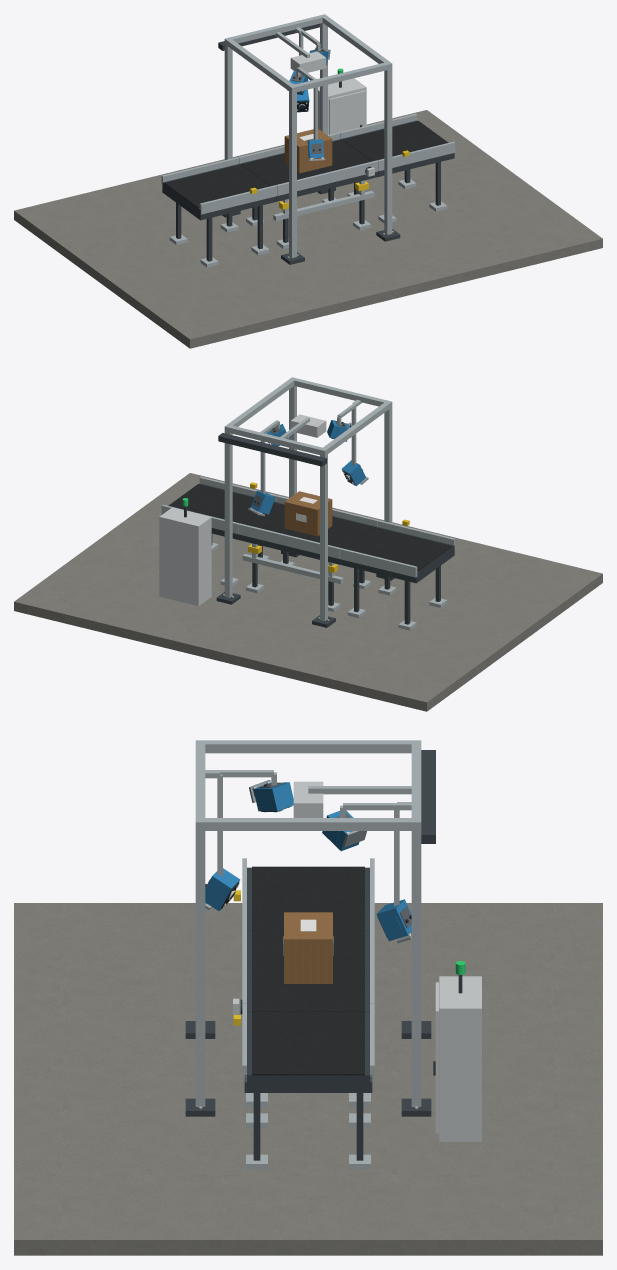
3 views of the same model, one above another, from view 1: azimuth 30°, elevation 25°; view 2: azimuth 150°, elevation 25°; view 3: azimuth 270°, elevation 25° (orthographic). The views are drawn at different scales.
Parts seen in each view (by area): view 1: Concrete floor, Infeed belt surface, Discharge belt surface, Weigh belt surface, Tunnel upright.002, Tunnel upright, Controller door, Sample carton, Weigh side rail, Infeed conveyor frame, Tunnel upright.001, Infeed side rail (+13 smaller); view 2: Concrete floor, Tunnel controller cabinet, Infeed belt surface, Weigh belt surface, Discharge belt surface, Tunnel upright.003, Sample carton, Tunnel upright.001, Weigh side rail.001, Overhead cable raceway, Tunnel upright, Infeed conveyor frame (+10 smaller); view 3: Concrete floor, Discharge belt surface, Tunnel controller cabinet, Weigh belt surface, Infeed belt surface, Sample carton, Tunnel upright.002, Tunnel upright.003, Tunnel crossbeam, Tunnel crossbeam.001, Discharge conveyor frame, Overhead cable raceway (+8 smaller).
Part boxes in pixels (x1,y1,x2,y2): Concrete floor: (14, 110, 602, 348); Infeed belt surface: (164, 164, 270, 207); Discharge belt surface: (342, 121, 448, 161); Weigh belt surface: (241, 139, 371, 185); Tunnel upright.002: (384, 66, 392, 234); Tunnel upright: (289, 88, 296, 258); Controller door: (329, 90, 365, 134); Sample carton: (284, 128, 332, 173); Weigh side rail: (276, 160, 378, 195); Infeed conveyor frame: (162, 164, 276, 220); Tunnel upright.001: (224, 44, 232, 159); Infeed side rail: (199, 185, 277, 214); Concrete floor: (14, 473, 602, 711); Tunnel controller cabinet: (159, 507, 211, 606); Infeed belt surface: (346, 527, 452, 570); Weigh belt surface: (245, 502, 375, 548); Discharge belt surface: (168, 484, 274, 524); Tunnel upright.003: (224, 428, 232, 597); Sample carton: (284, 491, 332, 536); Tunnel upright.001: (320, 452, 327, 621); Weigh side rail.001: (238, 523, 340, 558); Overhead cable raceway: (218, 433, 326, 466); Tunnel upright: (384, 404, 392, 522); Infeed conveyor frame: (340, 527, 454, 583); Concrete floor: (14, 903, 602, 1255); Discharge belt surface: (252, 1012, 364, 1075); Tunnel controller cabinet: (439, 976, 481, 1141); Weigh belt surface: (252, 929, 364, 1011); Infeed belt surface: (252, 866, 364, 928); Sample carton: (284, 912, 332, 983); Tunnel upright.002: (195, 825, 205, 1106); Tunnel upright.003: (411, 825, 421, 1106); Tunnel crossbeam: (195, 740, 421, 753); Tunnel crossbeam.001: (195, 818, 421, 830); Discharge conveyor frame: (244, 1013, 372, 1092); Overhead cable raceway: (421, 750, 435, 843).
Bounding box in the file's own units: 6.5 × 2.75 × 4.8.
18 materials, 3 textured.
